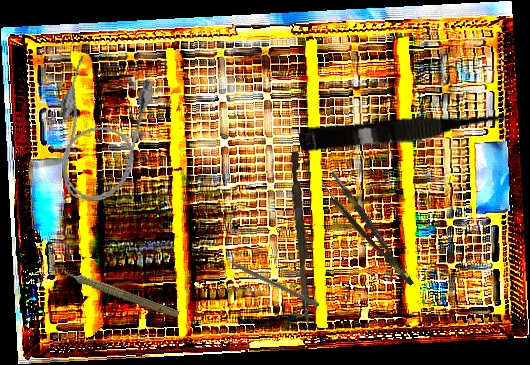Cannula: (41, 53, 158, 210)
Handpiece: (55, 262, 182, 321)
Micro Scissor: (298, 105, 517, 157)
Pusher: (215, 252, 321, 308), (286, 151, 317, 327)
Tissue Forceps: (318, 170, 416, 294)
